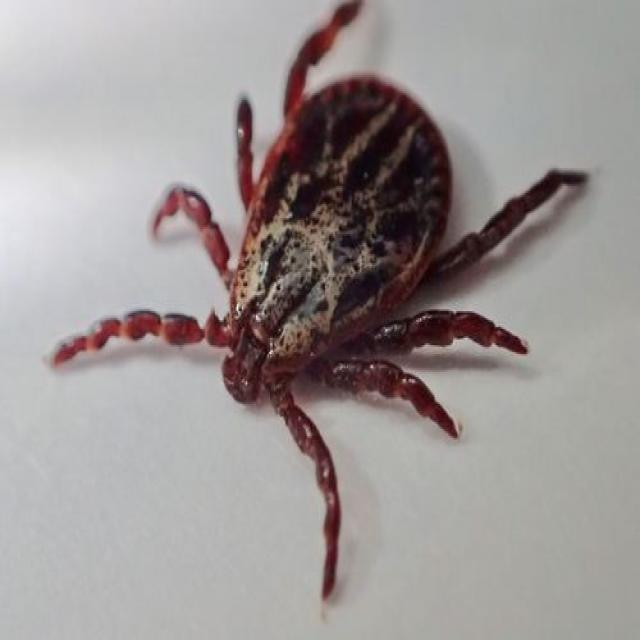Dermacentor Reticulatus-M: (50, 0, 589, 601)
